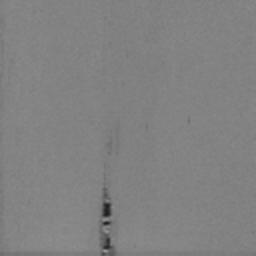Slag inclusion: (101, 188, 112, 226), (101, 232, 116, 256)
